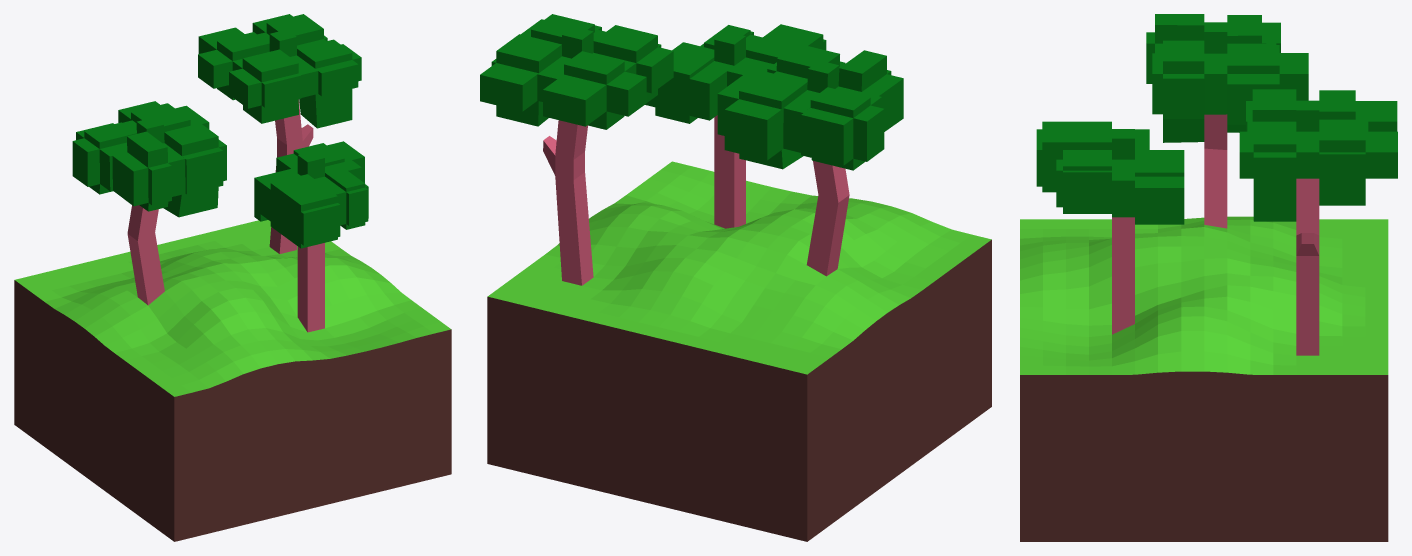
File: grassBlock2.fbx
3 renders of one model, left to right at view 1: azimuth 30°, elevation 25°; view 2: azimuth 150°, elevation 25°; view 3: azimuth 270°, elevation 25°, orthographic. The views are drawn at different scales.
Parts seen in each view (by area): view 1: Cube; view 2: Cube; view 3: Cube.
Part boxes in pixels (<box>): Cube: <box>14,14,451,541</box>; Cube: <box>480,14,991,541</box>; Cube: <box>1020,14,1397,541</box>.
Size of the model in its own units: 104 by 123 by 103.
